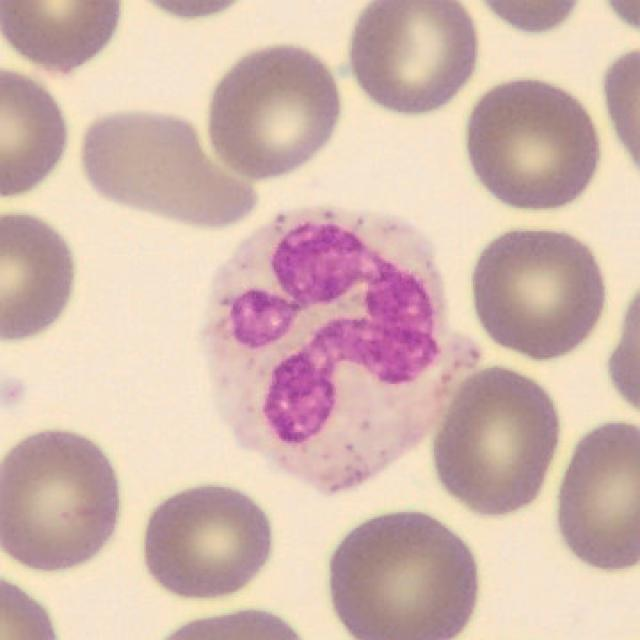Neutrofilo segmentado: (194, 204, 484, 498)
